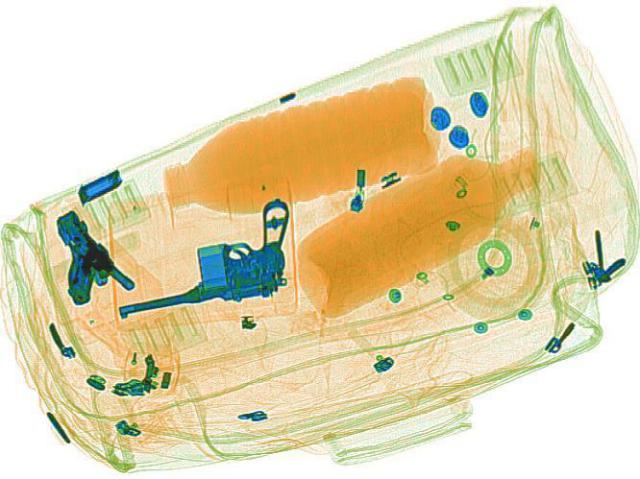Gun: (110, 194, 310, 315), (17, 203, 138, 306)
